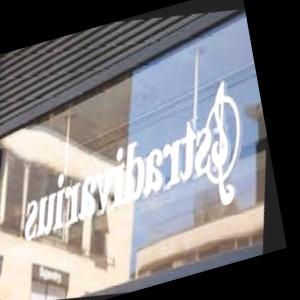stradivarius: (220, 32, 259, 95)
